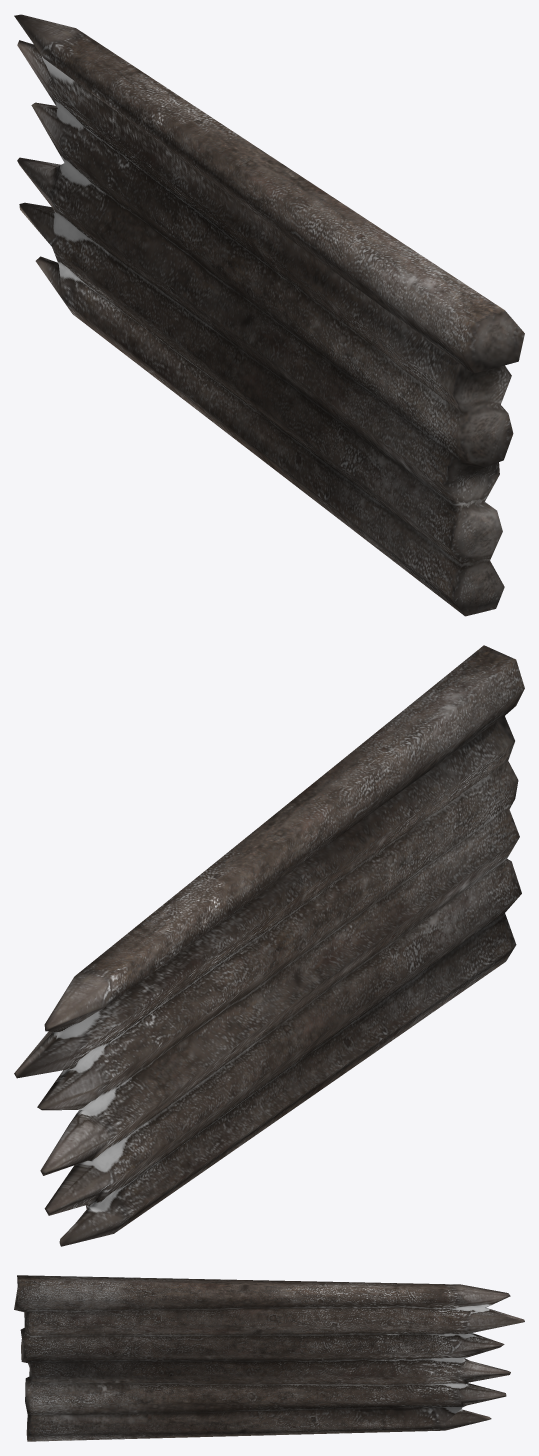
Rendered from PalisadeSnow_01.fbx.
3 renders of one model, top to bottom at view 1: azimuth 30°, elevation 25°; view 2: azimuth 150°, elevation 25°; view 3: azimuth 270°, elevation 25°, orthographic. The views are drawn at different scales.
Visible parts, largest first — view 1: Palisade_Snow_01; view 2: Palisade_Snow_01; view 3: Palisade_Snow_01.
Boxes of the visible parts, bbox=[...] form: Palisade_Snow_01: bbox=[14, 14, 524, 616]; Palisade_Snow_01: bbox=[14, 645, 524, 1246]; Palisade_Snow_01: bbox=[14, 1275, 524, 1441].
Size of the model in its own units: 2.22 by 9.38 by 26.86.
Materials: 1 (1 with a texture image).
